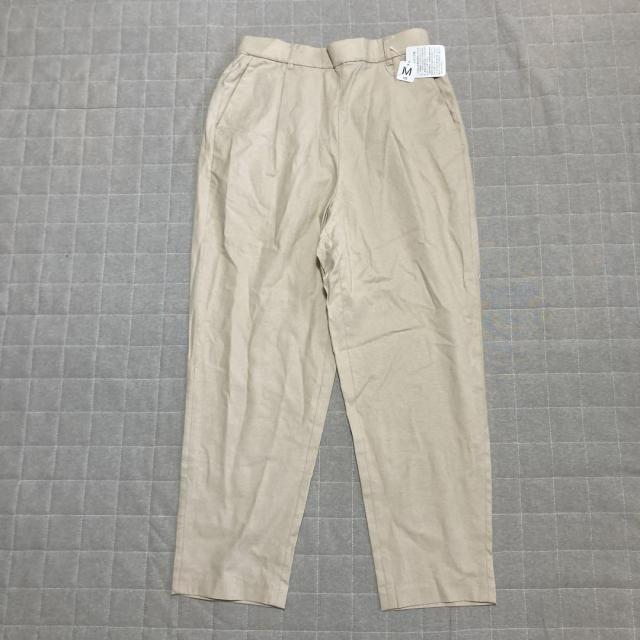long-pants: (172, 28, 498, 612)
